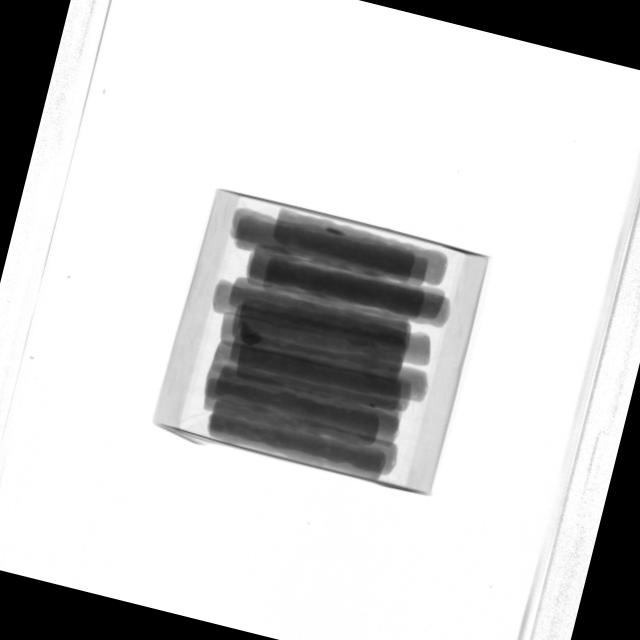ym: (237, 320, 266, 348), (325, 225, 348, 237), (368, 402, 376, 409)
